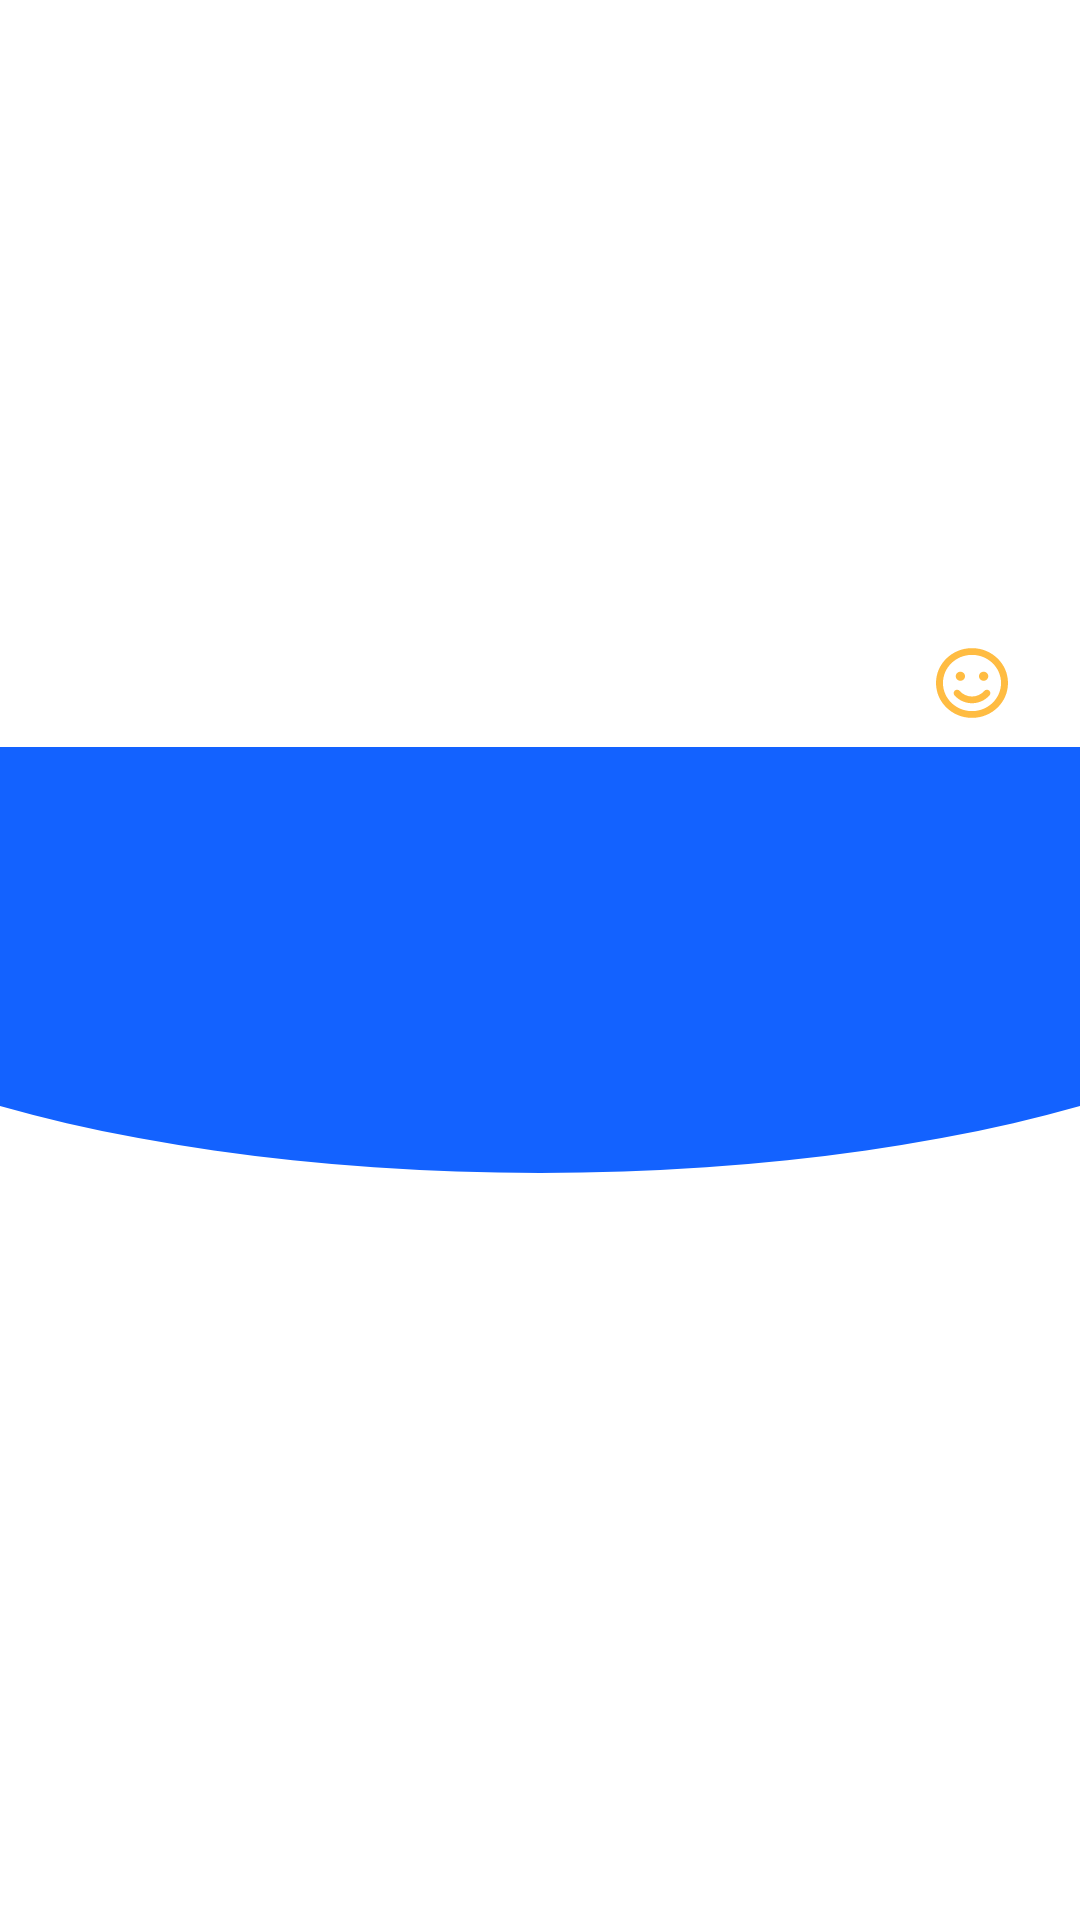

Where icons sit on this 1080px×1920px app screen, as (x1, y1, x2, y2):
smile: (936, 648, 1008, 718)
